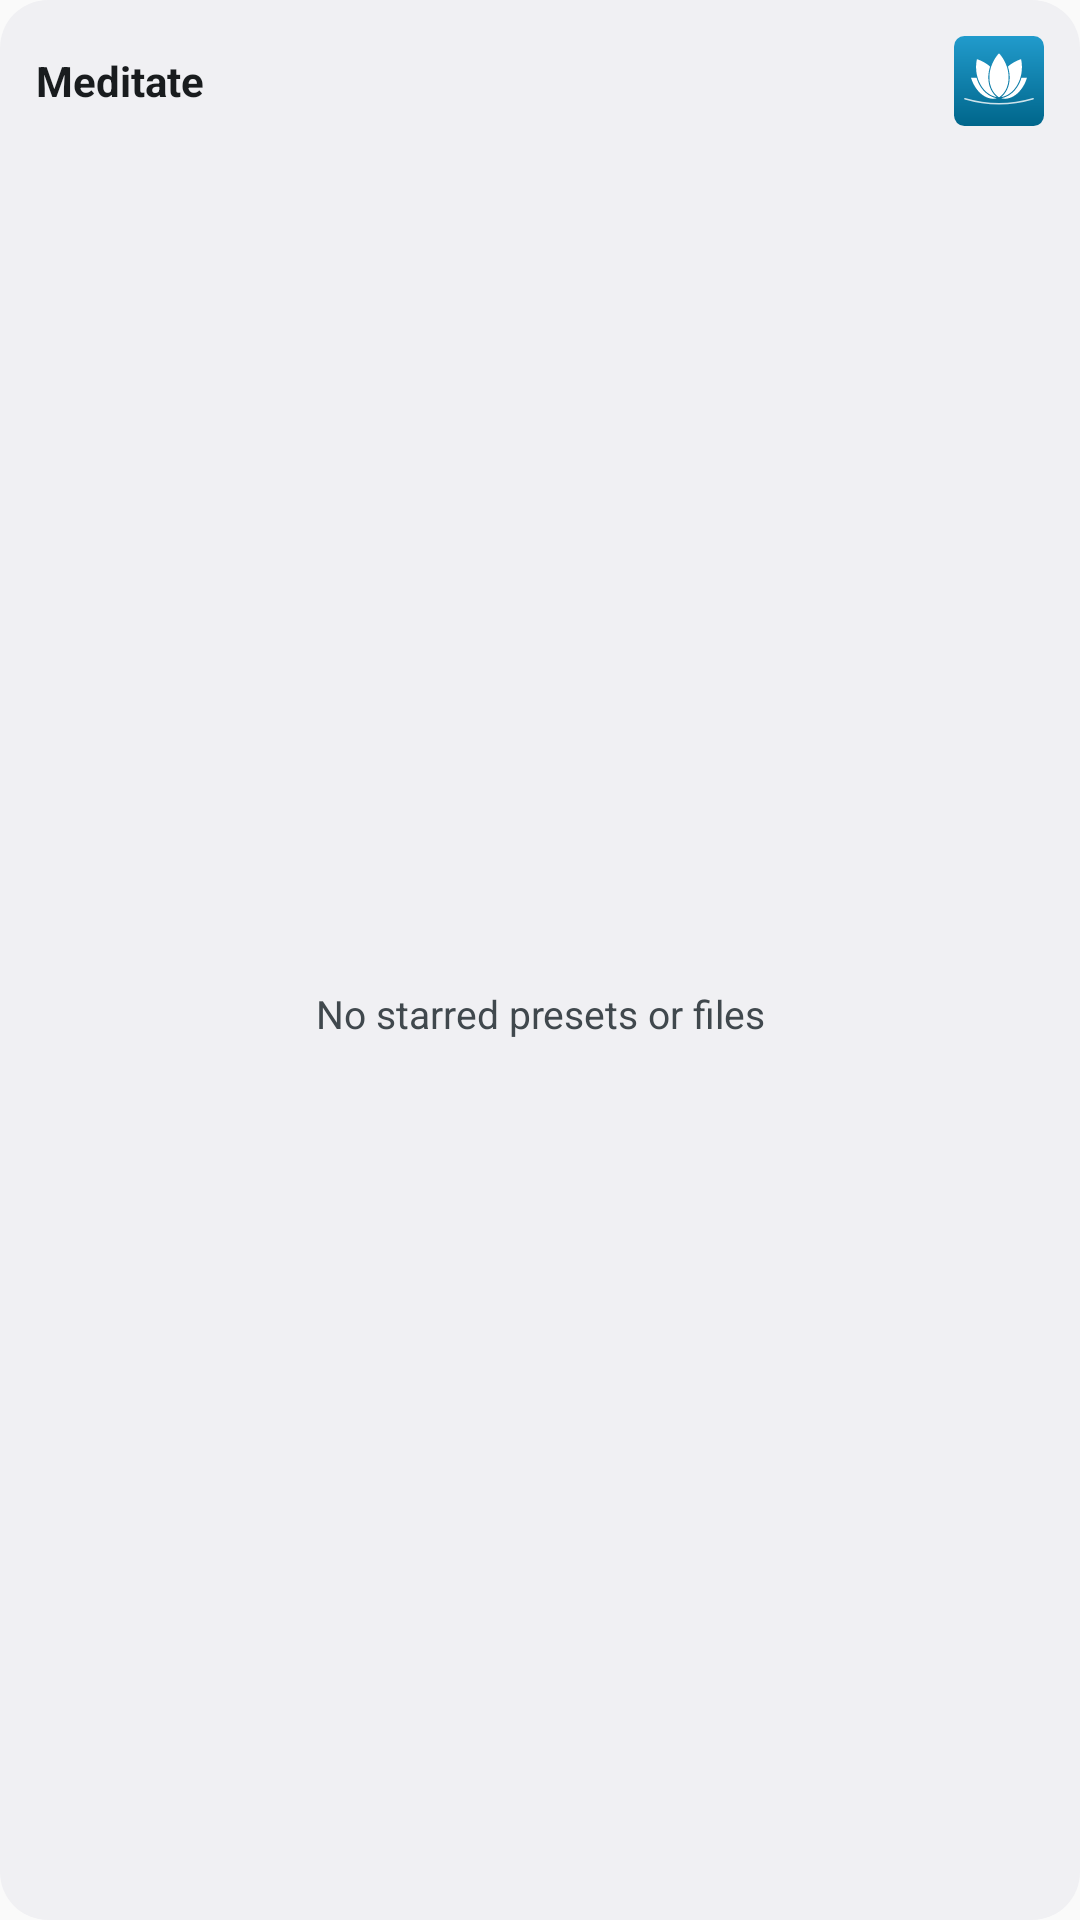

Named icons in this screenshot (1080*1920) and their bounding boxes, {"x1": x1, "y1": y1, "x2": x2, "y2": y2}:
widget app: {"x1": 954, "y1": 36, "x2": 1044, "y2": 126}
